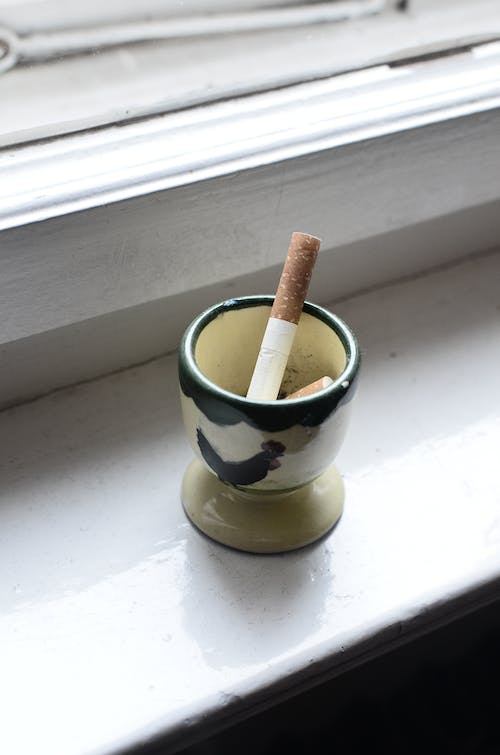cigarette: (239, 223, 328, 401), (278, 372, 339, 411)
